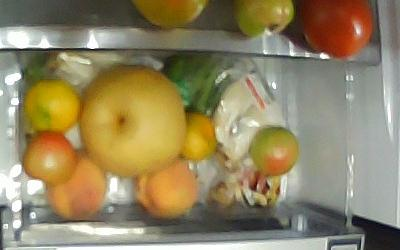peach: (46, 152, 108, 221), (137, 159, 198, 221)
pear: (79, 65, 187, 177)
tangerine: (25, 78, 81, 134), (180, 112, 217, 160)
tomato: (22, 130, 77, 185), (248, 127, 300, 176)
